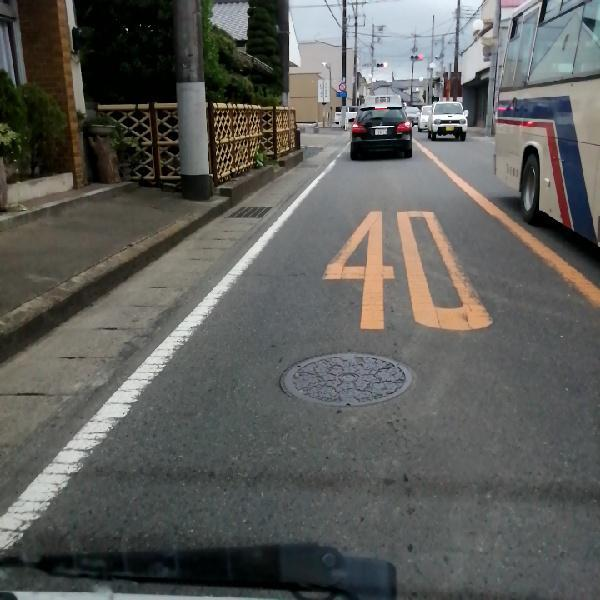D10: (242, 264, 321, 283)
D50: (281, 346, 416, 404)
